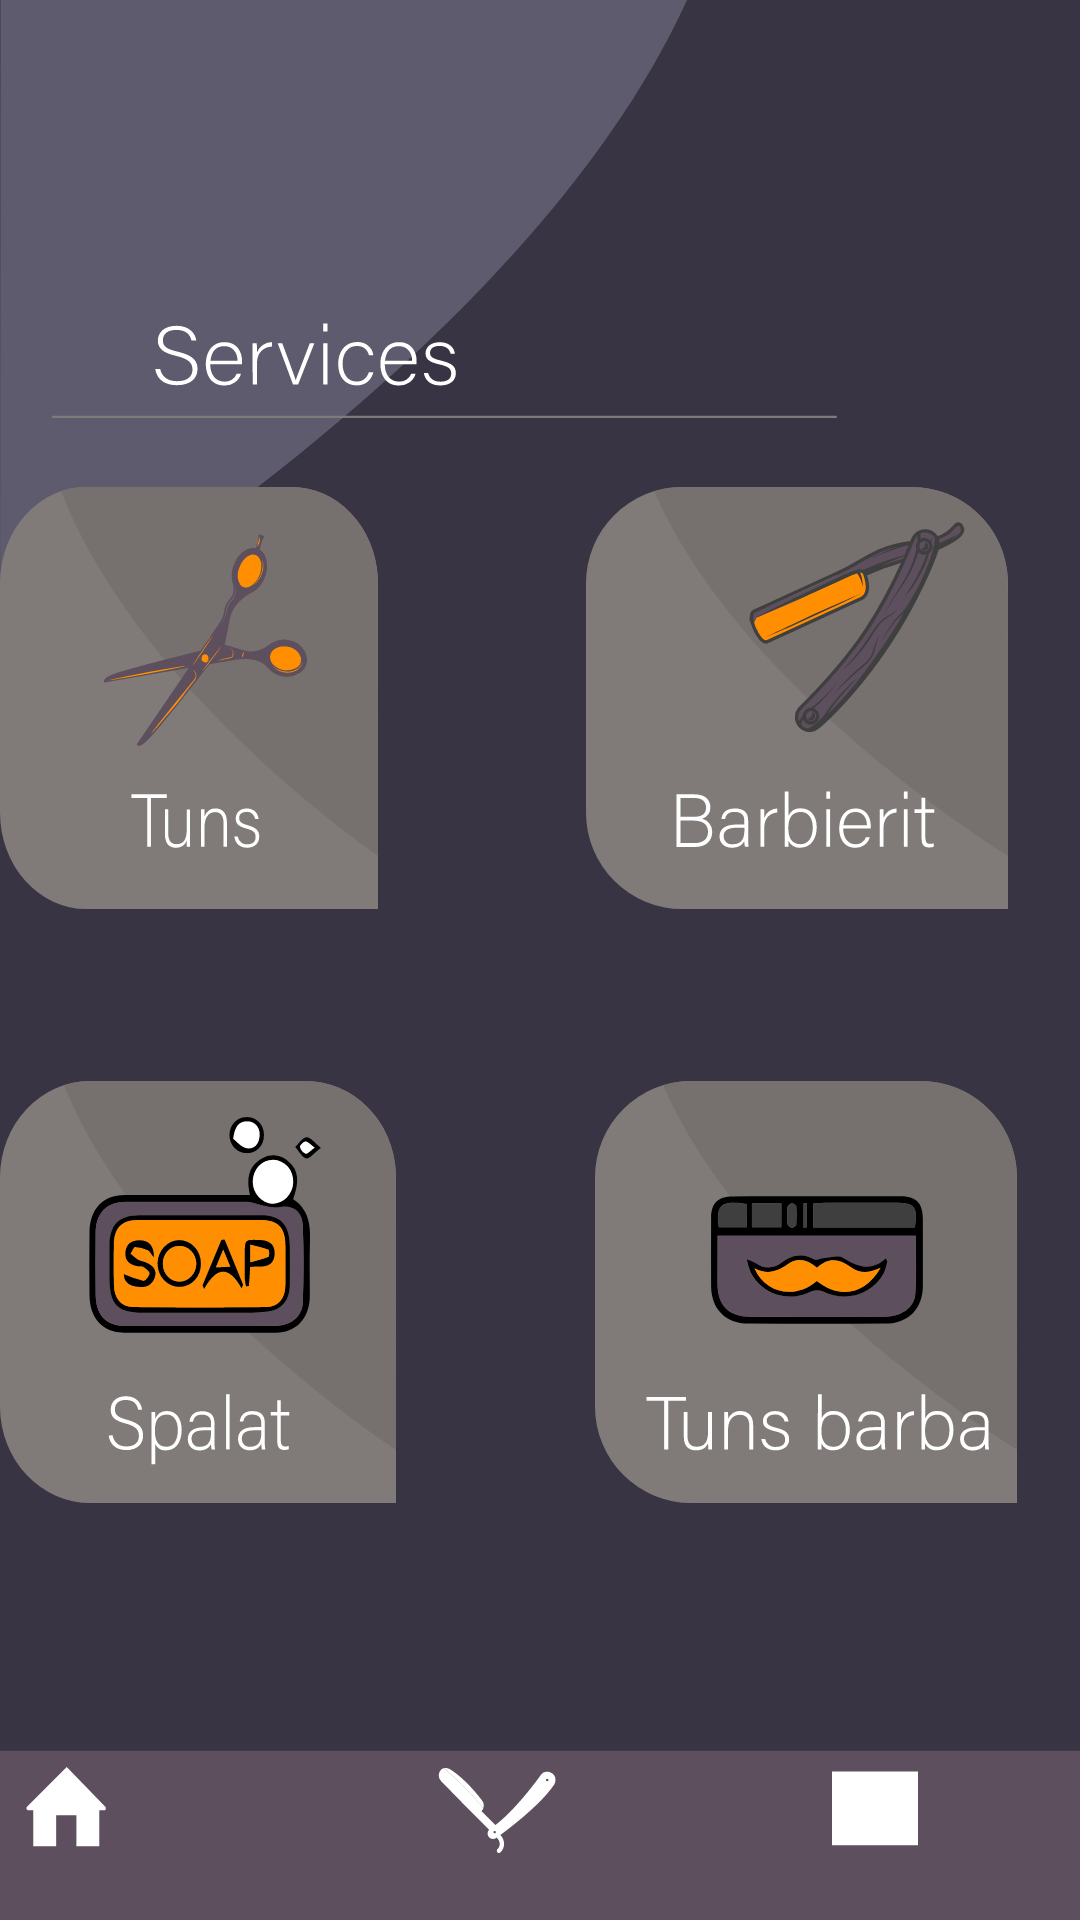

Point at icon controls on the screen. Image size 1080*1920, points as point (x, y).
homebutton: point (66, 1807)
servicesbutton: point (497, 1810)
